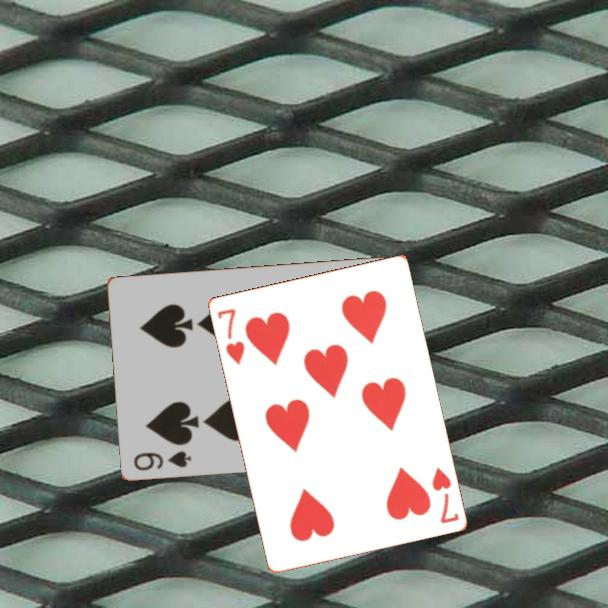h07: (213, 305, 247, 368), (428, 463, 461, 526)
s09: (131, 447, 194, 473)
